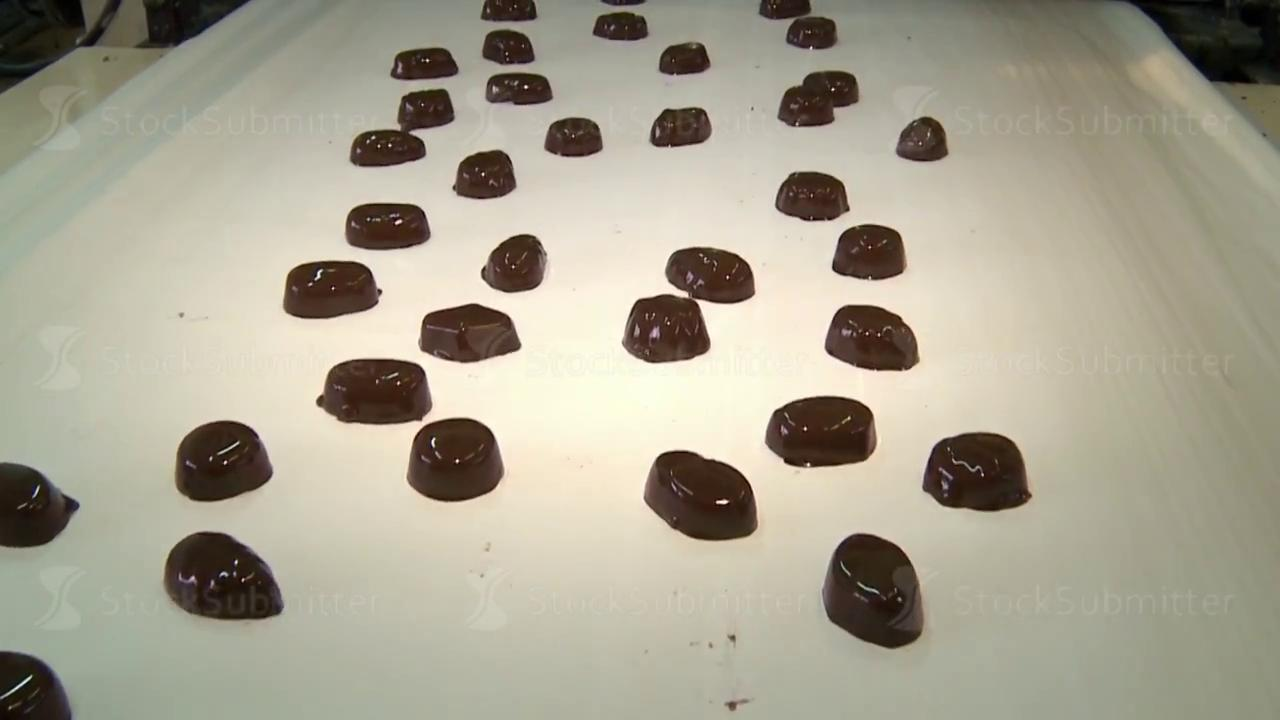chocolate: (821, 532, 924, 648), (164, 530, 283, 619), (643, 449, 757, 540), (922, 431, 1031, 511), (406, 417, 504, 501), (765, 395, 877, 467), (175, 419, 272, 501), (316, 357, 432, 424), (0, 461, 79, 548), (824, 304, 918, 371), (622, 293, 710, 362), (419, 302, 520, 362), (283, 260, 380, 318), (665, 246, 755, 302), (0, 650, 71, 719), (832, 223, 906, 280), (345, 202, 430, 249), (481, 233, 547, 292), (775, 170, 849, 221), (453, 149, 516, 199), (350, 129, 425, 166), (650, 106, 711, 147), (896, 116, 948, 161), (397, 88, 454, 129), (544, 117, 602, 157), (778, 85, 834, 126), (485, 72, 552, 105), (390, 47, 458, 79), (482, 29, 534, 64), (658, 41, 710, 74), (786, 16, 836, 49), (593, 11, 647, 40), (481, 0, 536, 21)
